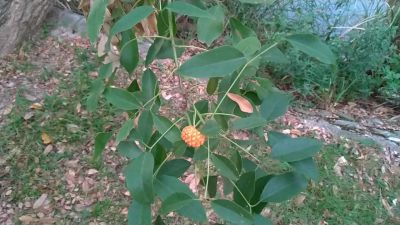eggs: (181, 123, 207, 145)
